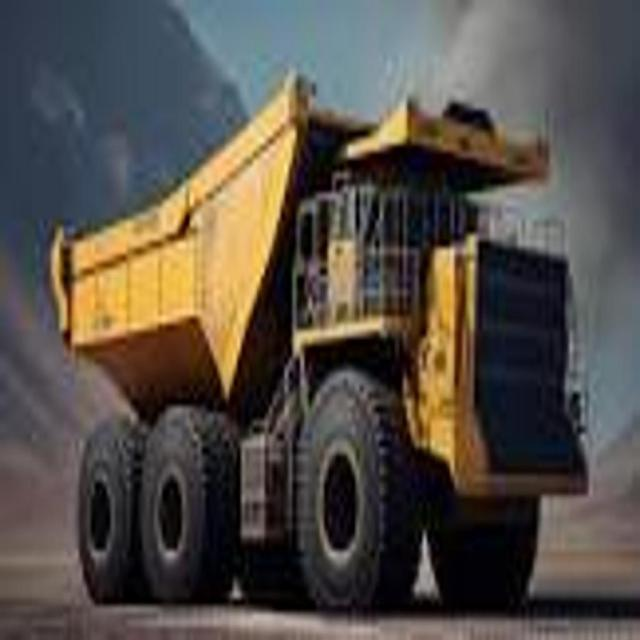dump_truck: (46, 71, 593, 610)
